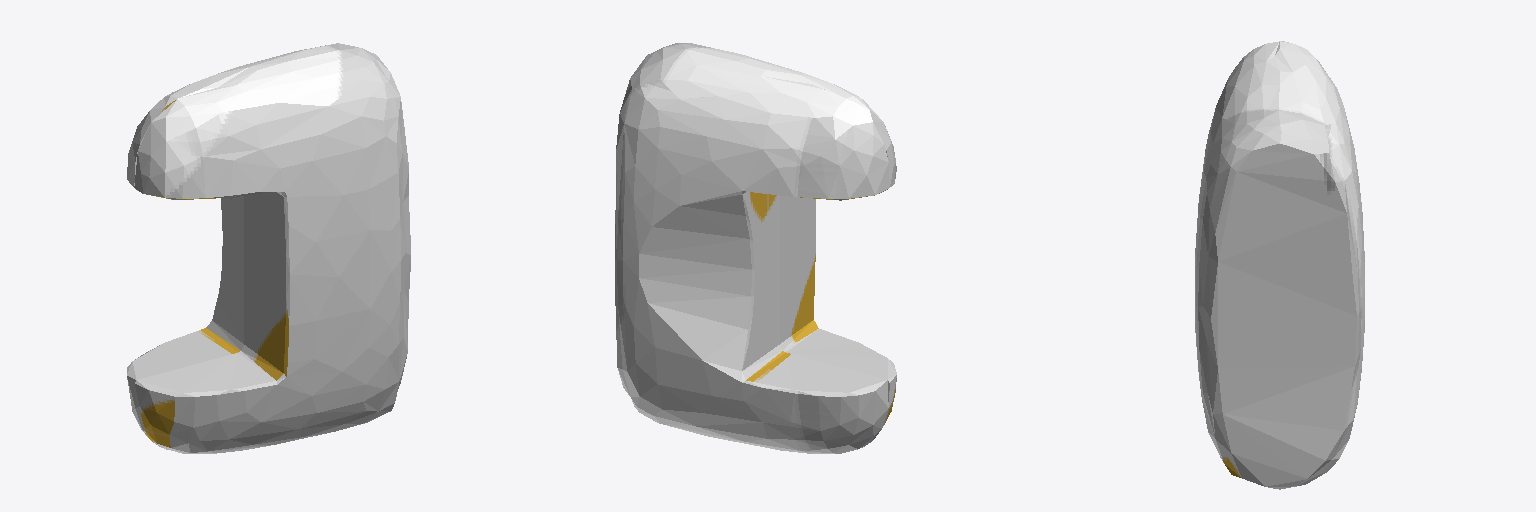
3 views of the same model, side by side, from view 1: azimuth 30°, elevation 25°; view 2: azimuth 150°, elevation 25°; view 3: azimuth 270°, elevation 25° (orthographic).
Parts seen in each view (by area): view 1: link_head_tilt whole_robot; view 2: link_head_tilt whole_robot; view 3: link_head_tilt whole_robot.
Boxes of the visible parts, <box> form: link_head_tilt whole_robot: <box>127,43,410,453</box>; link_head_tilt whole_robot: <box>615,43,896,453</box>; link_head_tilt whole_robot: <box>1195,41,1364,489</box>.
Size of the model in its own units: 0.1526 by 0.2237 by 0.0923.
1 materials, 1 textured.